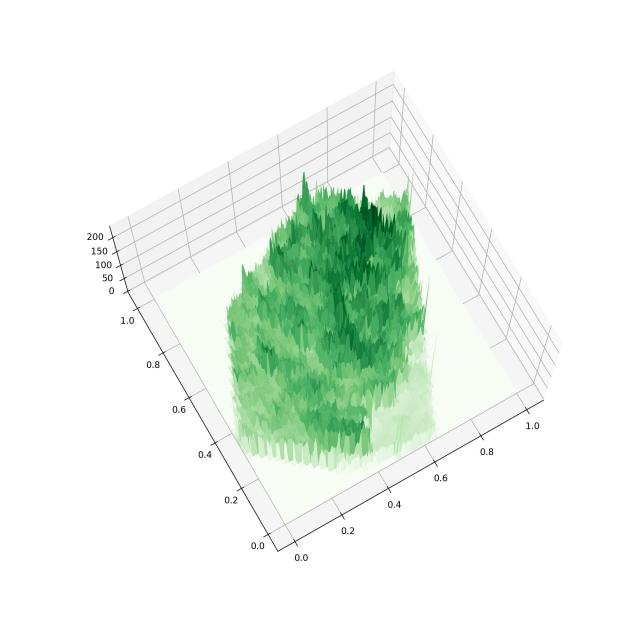fir: (32, 36, 573, 576)
